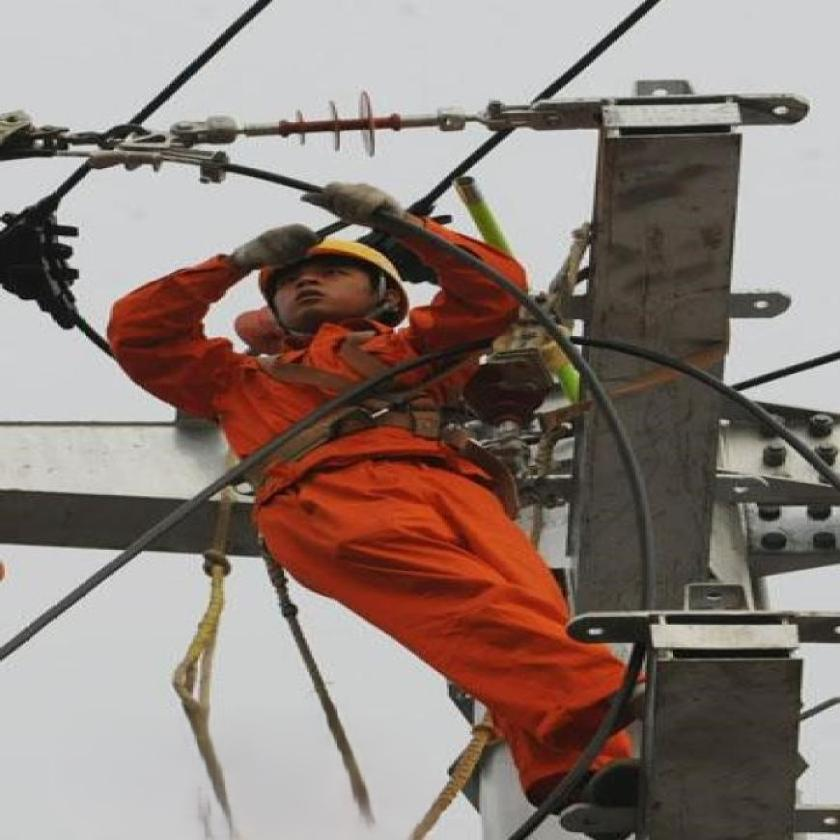Con_casco: (247, 224, 413, 350)
